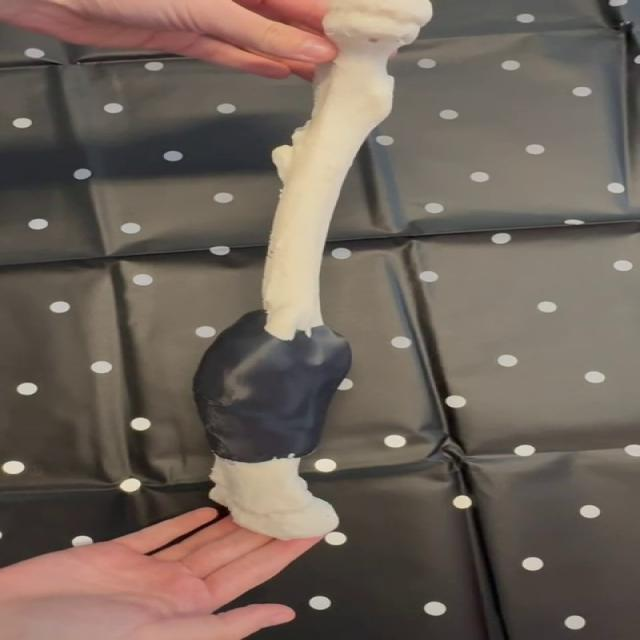bones: (194, 0, 431, 539)
